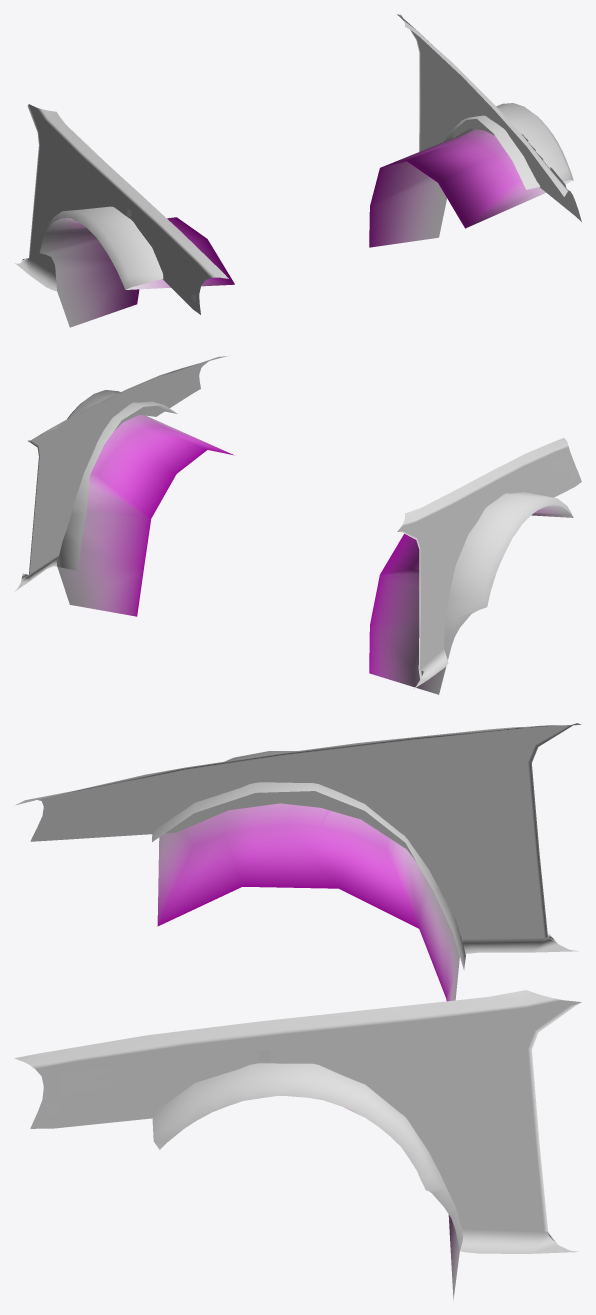
Rendered from Car_Nissan_SkylineGTRVspecR34_1999_FendersChassisF_SetF.fbx.
3 renders of one model, top to bottom at view 1: azimuth 30°, elevation 25°; view 2: azimuth 150°, elevation 25°; view 3: azimuth 270°, elevation 25°, orthographic. The views are drawn at different scales.
Parts seen in each view (by area): view 1: FendersChassisF 6; view 2: FendersChassisF 6; view 3: FendersChassisF 6.
Part boxes in pixels (x1,y1,x2,y2): FendersChassisF 6: (15, 14, 581, 327); FendersChassisF 6: (14, 356, 581, 694); FendersChassisF 6: (14, 723, 581, 1300).
Size of the model in its own units: 1.84 by 0.7628 by 1.3.
